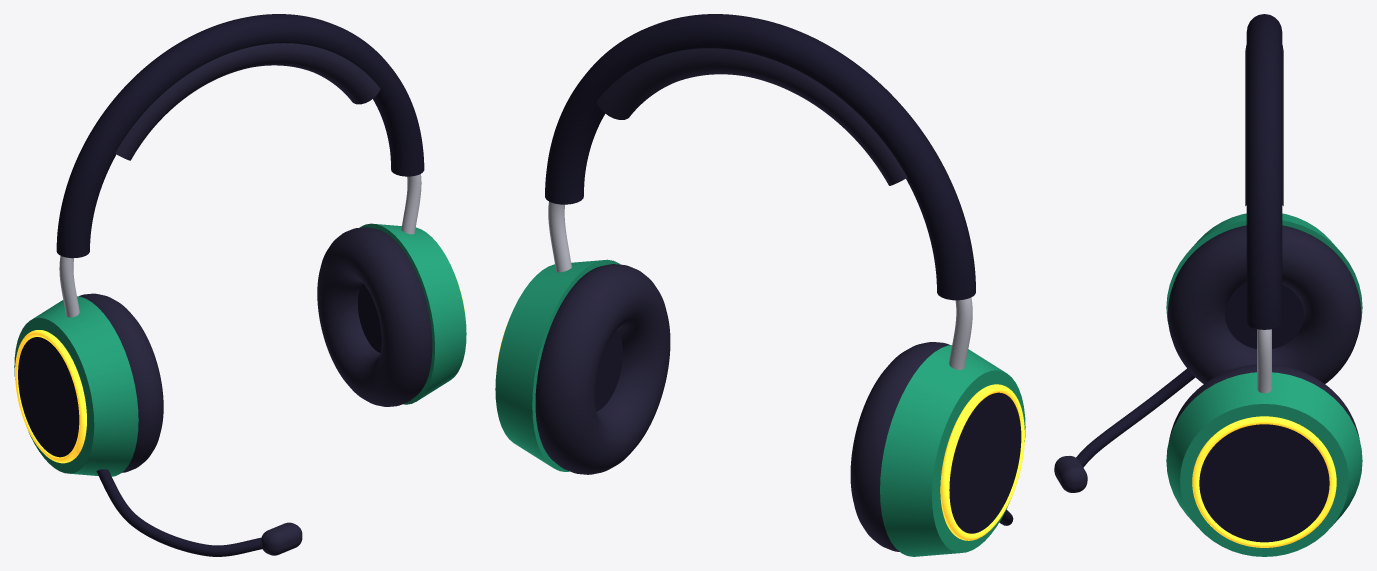
File: auriculares.glb
The picture shows the model from 3 angles, left to right: view 1: azimuth 30°, elevation 25°; view 2: azimuth 150°, elevation 25°; view 3: azimuth 270°, elevation 25°; orthographic projection. The views are drawn at different scales.
Bounding box in the file's own units: 3.46 × 3.87 × 2.26.
